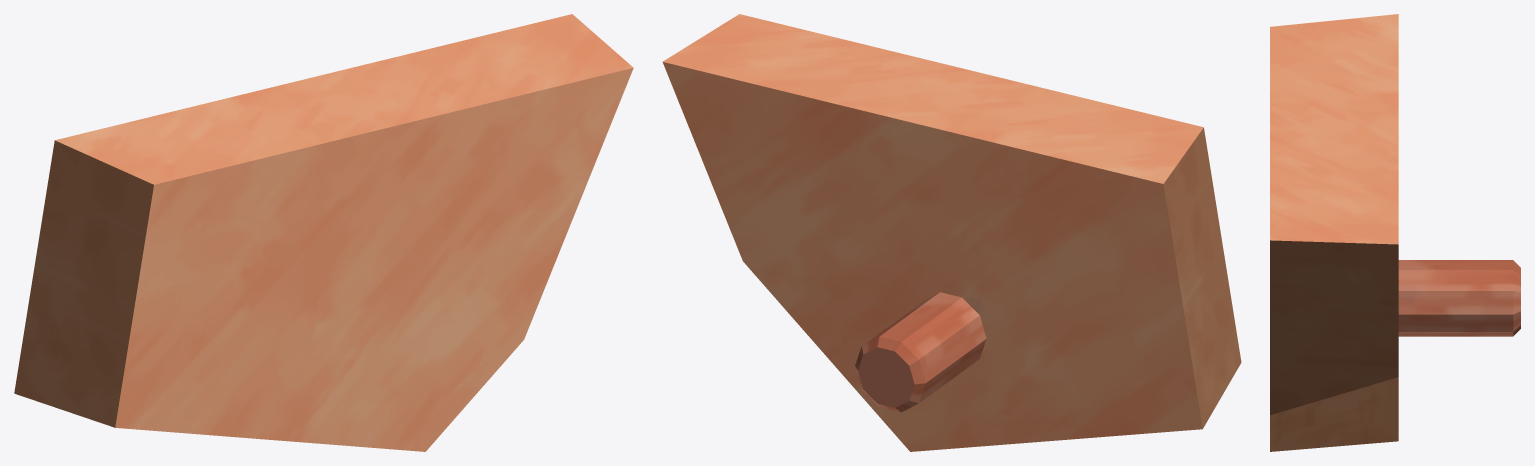
The model's file is wall_door_s04.fbx.
3 renders of one model, left to right at view 1: azimuth 30°, elevation 25°; view 2: azimuth 150°, elevation 25°; view 3: azimuth 270°, elevation 25°, orthographic. The views are drawn at different scales.
Visible parts, largest first — view 1: wall_door_s04; view 2: wall_door_s04; view 3: wall_door_s04.
Boxes of the visible parts, x1,y1,x2,y2 form: wall_door_s04: (14, 14, 633, 451); wall_door_s04: (662, 14, 1241, 451); wall_door_s04: (1270, 14, 1520, 451).
Size of the model in its own units: 4.57 by 2.67 by 1.95.
